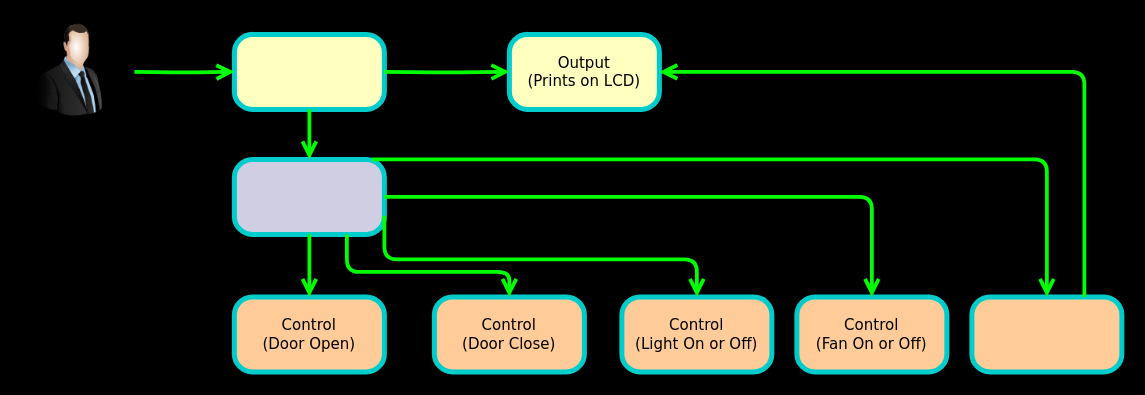
The diagram is 1145 pixels wide and 395 high, and some of its shapes have lost their labels. Each missing label, with the centre of its shape:
"Input (Keypad)" belongs at point 308,71.
"Password (Checks password)" belongs at point 308,196.
"Sensing (Temperature Detection)" belongs at point 1046,334.
